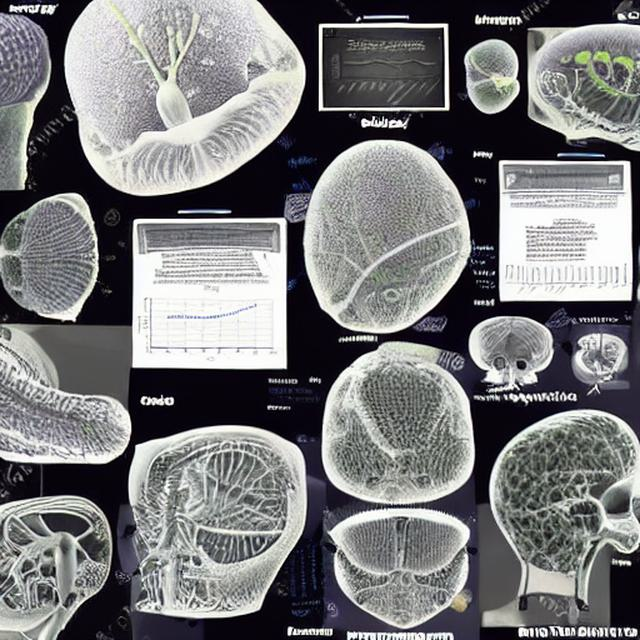Graph: (134, 278, 279, 364), (327, 38, 445, 108), (510, 252, 591, 298)
